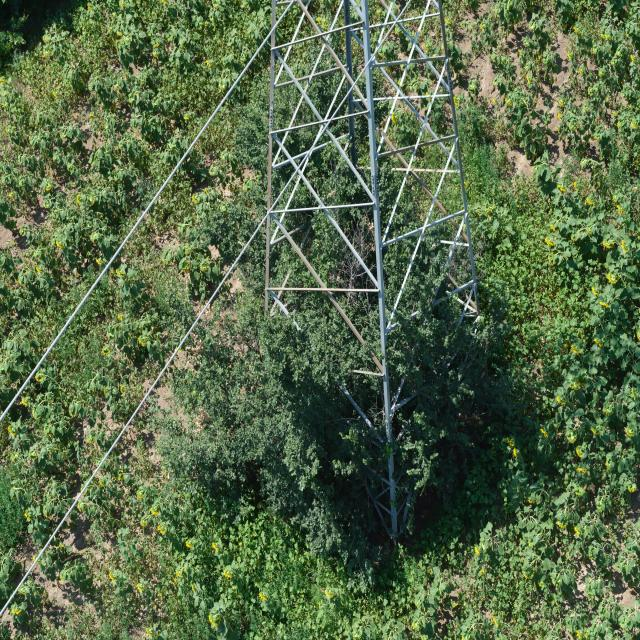direk: (259, 2, 477, 486)
tree: (300, 162, 454, 491), (478, 205, 628, 468)
